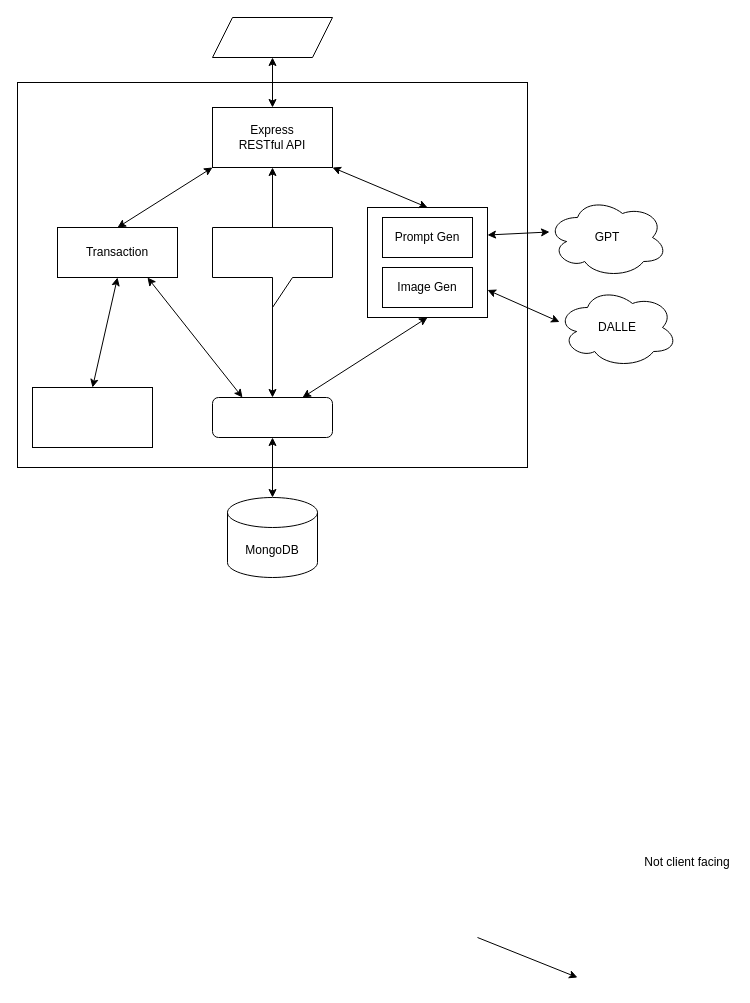
The diagram is 750 pixels wide and 1003 high, and some of its shapes have lost their labels. The box of each missing label's shape, as (x1, y1, x2, y2) in pixels:
Client: (212, 16, 332, 58)
Mongoose: (212, 396, 332, 438)
Prompt data: (212, 226, 332, 308)
Stripe: (32, 386, 152, 448)
